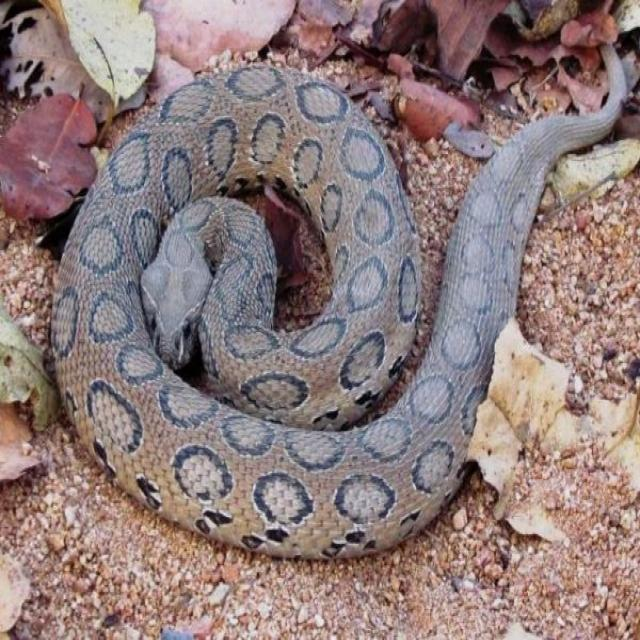Snake: (48, 34, 627, 562)
